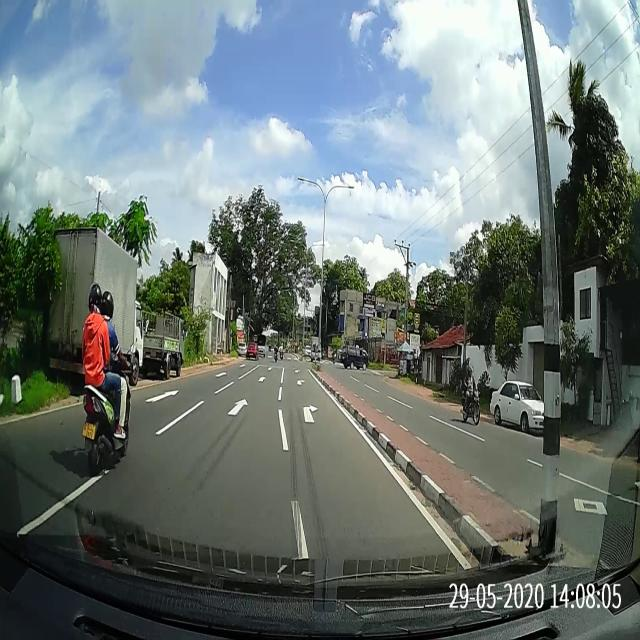Strelka vpered: (145, 390, 180, 402), (227, 398, 248, 415)
Strelka vpravo: (303, 404, 318, 423)
